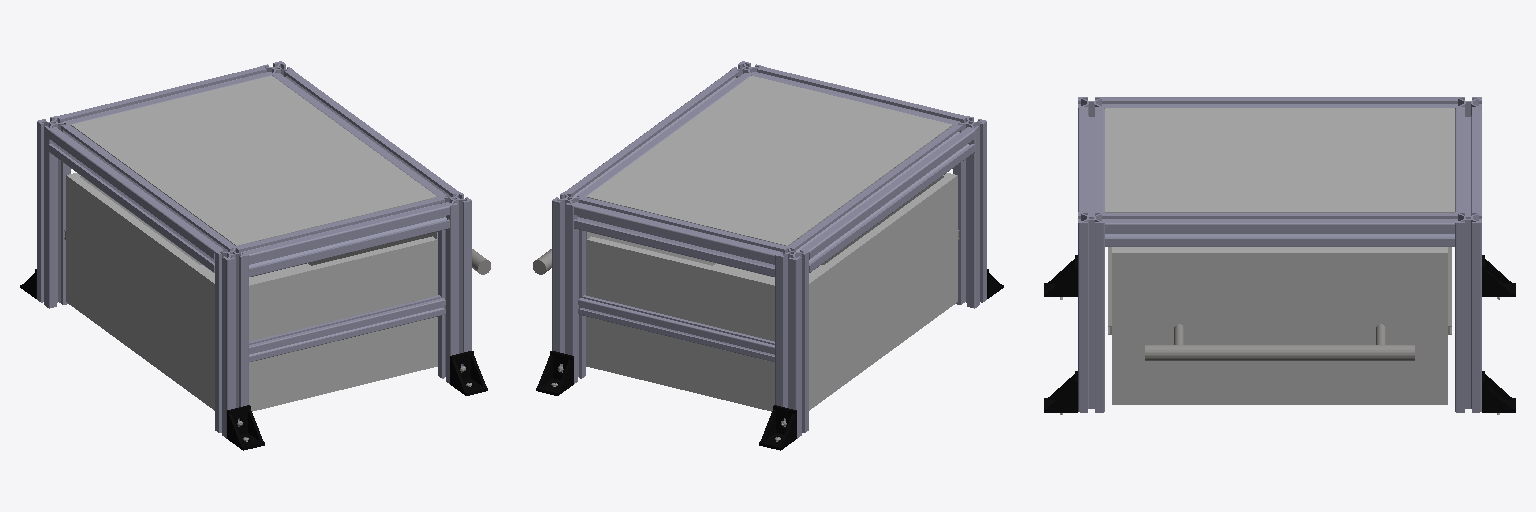
The robot description file, URDF, robot "drawer":
<?xml version="1.0"?>
<robot name="drawer">
  <link name="base_link" />
  <link name="drawer_frame">
    <inertial>
      <mass value="5.0" />
      <origin xyz="0 0 0" />
      <inertia  ixx="0.000128" ixy="0.0"  ixz="0.0"  iyy="0.000128"  iyz="0.0" izz="0.000128" />
    </inertial>
    <visual>
      <geometry>
        <mesh filename="../meshes/drawer/visual/drawer_frame.dae"/>
      </geometry>
    </visual>
    <collision>
      <origin rpy="0 0 0" xyz="0 0.155 0.28"/>
      <geometry>
        <box size="0.04 0.31 0.04" />
      </geometry>
    </collision>
    <collision>
      <origin rpy="0 0 0" xyz="0 0.155 -0.28"/>
      <geometry>
        <box size="0.04 0.31 0.04" />
      </geometry>
    </collision>
    <collision>
      <origin rpy="0 0 0" xyz="-0.405 0.155 0.28"/>
      <geometry>
        <box size="0.04 0.31 0.04" />
      </geometry>
    </collision>
    <collision>
      <origin rpy="0 0 0" xyz="-0.405 0.155 -0.28"/>
      <geometry>
        <box size="0.04 0.31 0.04" />
      </geometry>
    </collision>
    <collision>
      <origin rpy="0 0 0" xyz="-0.2025 0.29 0"/>
      <geometry>
        <box size="0.445 0.04 0.6" />
      </geometry>
    </collision>
    <collision>
      <origin rpy="0 0 0" xyz="-0.2025 0.1275 -0.275"/>
      <geometry>
        <box size="0.4 0.026 0.02" />
      </geometry>
    </collision>
    <collision>
      <origin rpy="0 0 0" xyz="-0.2025 0.1275 0.275"/>
      <geometry>
        <box size="0.4 0.026 0.02" />
      </geometry>
    </collision>
  </link>
  <joint name="base_link_to_drawer_frame" type="fixed">
    <parent link="base_link"/>
    <child link="drawer_frame"/>
  </joint>
  <link name="drawer">
    <inertial>
      <mass value="0.75" />
      <origin xyz="0 0 0" />
      <inertia  ixx="0.000128" ixy="0.0"  ixz="0.0"  iyy="0.000128"  iyz="0.0" izz="0.000128" />
    </inertial>
    <visual>
      <geometry>
        <mesh filename="../meshes/drawer/visual/drawer.dae"/>
      </geometry>
    </visual>
    <collision>
      <origin rpy="0 0 0" xyz="0. 0.135 0."/>
      <geometry>
        <box size="0.03 0.25 0.5" />
      </geometry>
    </collision>
    <collision>
      <origin rpy="0 0 0" xyz="-0.3925 0.12 0."/>
      <geometry>
        <box size="0.015 0.22 0.5" />
      </geometry>
    </collision>
    <collision>
      <origin rpy="0 0 0" xyz="-0.2 0.0175 0."/>
      <geometry>
        <box size="0.4 0.015 0.5" />
      </geometry>
    </collision>
    <collision>
      <origin rpy="0 0 0" xyz="-0.2 0.12 -0.2425"/>
      <geometry>
        <box size="0.4 0.22 0.015" />
      </geometry>
    </collision>
    <collision>
      <origin rpy="0 0 0" xyz="-0.2 0.12 0.2425"/>
      <geometry>
        <box size="0.4 0.22 0.015" />
      </geometry>
    </collision>
    <collision>
      <origin rpy="0 0 0" xyz="0.1 0.135 0."/>
      <geometry>
        <cylinder length="0.4" radius="0.0125"/>
      </geometry>
    </collision>
    <collision>
      <origin rpy="0 1.571 0" xyz="0.05 0.135 0.15"/>
      <geometry>
        <cylinder length="0.1" radius="0.0075"/>
      </geometry>
    </collision>
    <collision>
      <origin rpy="0 1.571 0" xyz="0.05 0.135 -0.15"/>
      <geometry>
        <cylinder length="0.1" radius="0.0075"/>
      </geometry>
    </collision>
  </link>
  <joint name="drawer_frame_to_drawer" type="prismatic">
    <parent link="drawer_frame"/>
    <child link="drawer"/>
    <limit effort="330.0" lower="0.0" upper="0.35" velocity="2.09439510239"/>
    <origin rpy="0 0 0" xyz="0 0 0"/>
  </joint>
</robot>

--- What the picture shows (computed from the rendered views, not written in the file) ---
The picture shows the robot from 3 angles, left to right: view 1: azimuth 30°, elevation 25°; view 2: azimuth 150°, elevation 25°; view 3: azimuth 270°, elevation 25°; orthographic projection.
Model drawer with 3 links and 2 joints (1 prismatic, 1 fixed), rooted at base_link, posed all joints at 0.
Links seen in each view (by area): view 1: drawer_frame, drawer; view 2: drawer_frame, drawer; view 3: drawer_frame, drawer.
Boxes of the visible links, x1,y1,x2,y2 form: drawer_frame: (20, 61, 487, 450); drawer: (64, 173, 490, 411); drawer_frame: (536, 61, 1003, 450); drawer: (533, 173, 959, 411); drawer_frame: (1044, 97, 1515, 414); drawer: (1108, 247, 1451, 404).
Bounding box of the posed robot: 0.5375 × 0.7 × 0.3226 m (x, y, z).
Meshes: 2 distinct files referenced, 2 mesh visuals loaded (2 Collada DAE).